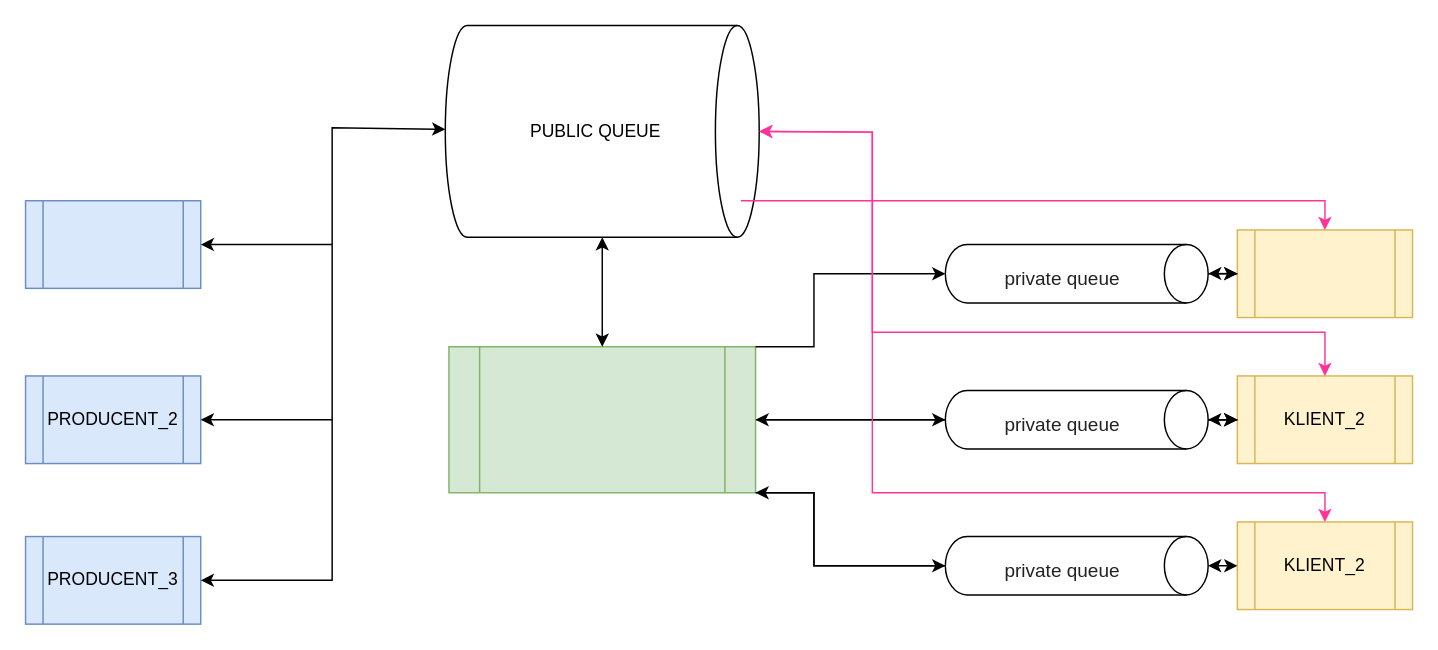
Image size: 1438x650. Some labels were removed from this diagram. The shapes that lost their labels are listed below. From the top down, each one's centre as x and y in pixels, then its label:
(x=112, y=243): PRODUCENT_1
(x=1324, y=273): KLIENT_1
(x=601, y=419): DYSTRYBUTOR
